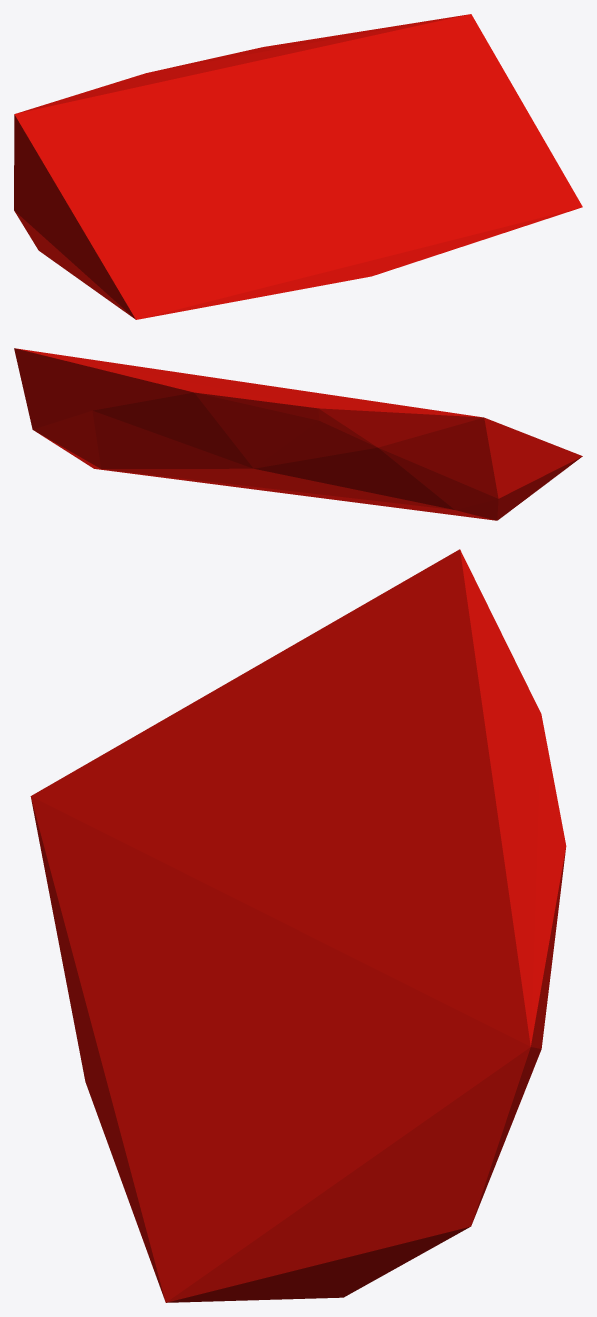
Rendered from shoulder-roll-housing_convex_piece_001.obj.
3 views of the same model, one above another, from view 1: azimuth 30°, elevation 25°; view 2: azimuth 150°, elevation 25°; view 3: azimuth 270°, elevation 25° (orthographic). The views are drawn at different scales.
Size of the model in its own units: 0.0859 by 0.0278 by 0.042.
